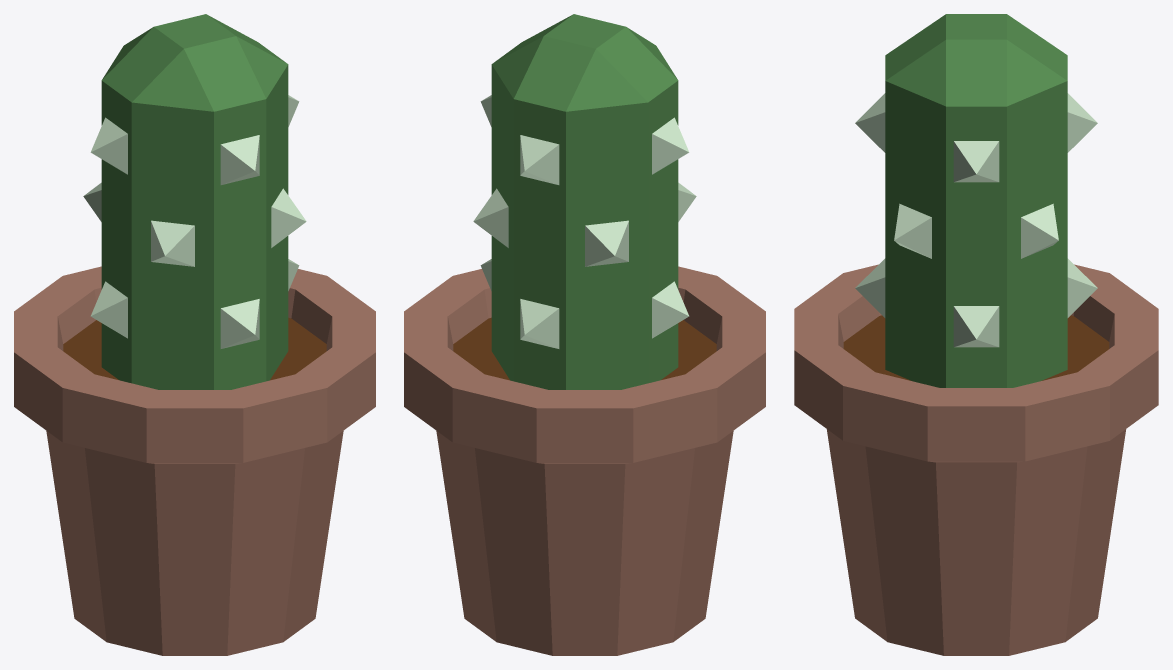
The model's file is cactus.gltf.
The picture shows the model from 3 angles, left to right: view 1: azimuth 30°, elevation 25°; view 2: azimuth 150°, elevation 25°; view 3: azimuth 270°, elevation 25°; orthographic projection.
Parts seen in each view (by area): view 1: pot, cactus, spine (×6), dirt; view 2: pot, cactus, spine (×6), dirt; view 3: pot, cactus, spine (×8), dirt.
Boxes of the visible parts, left/top/right/bottom form: pot: left=14, top=266, right=375, bottom=655; cactus: left=101, top=14, right=288, bottom=389; spine (×6): left=90, top=117, right=306, bottom=348; dirt: left=63, top=317, right=326, bottom=380; pot: left=404, top=266, right=765, bottom=655; cactus: left=491, top=14, right=678, bottom=389; spine (×6): left=473, top=117, right=689, bottom=348; dirt: left=453, top=317, right=716, bottom=380; pot: left=794, top=264, right=1158, bottom=655; cactus: left=885, top=14, right=1067, bottom=387; spine (×8): left=855, top=93, right=1097, bottom=347; dirt: left=843, top=315, right=1109, bottom=380.
Bounding box in the file's own units: 0.375 × 0.6562 × 0.375.
Materials: 4 (4 with a texture image).
